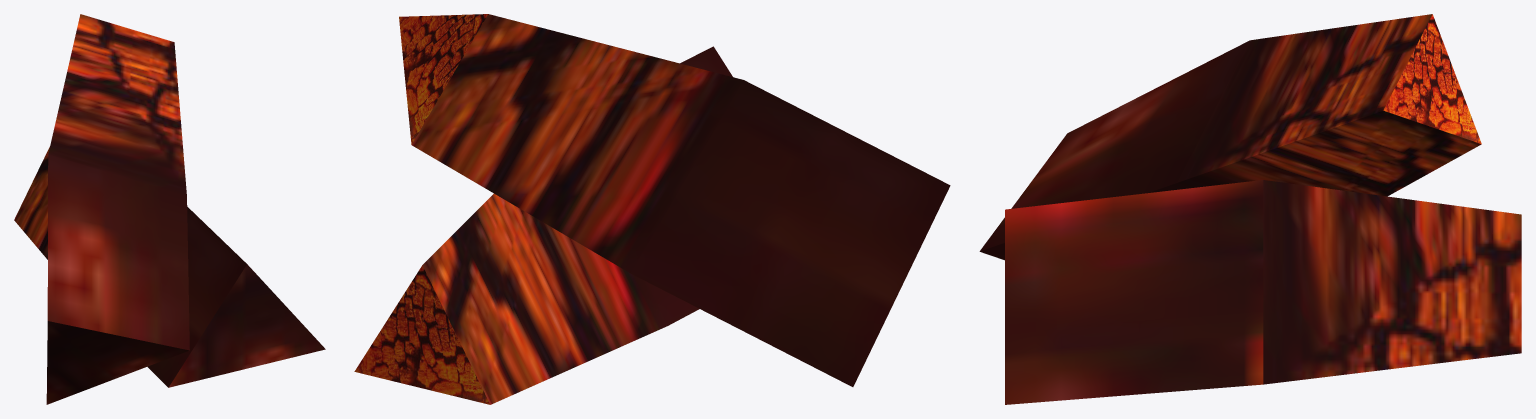
File: burning logs.fbx
The picture shows the model from 3 angles, left to right: view 1: azimuth 30°, elevation 25°; view 2: azimuth 150°, elevation 25°; view 3: azimuth 270°, elevation 25°; orthographic projection. The views are drawn at different scales.
Visible parts, largest first — view 1: Cylinder; view 2: Cylinder; view 3: Cylinder.
Part boxes in pixels (bbox=[...]): Cylinder: bbox=[14, 14, 325, 404]; Cylinder: bbox=[354, 14, 950, 404]; Cylinder: bbox=[979, 14, 1521, 404].
Size of the model in its own units: 253 by 268 by 340.
